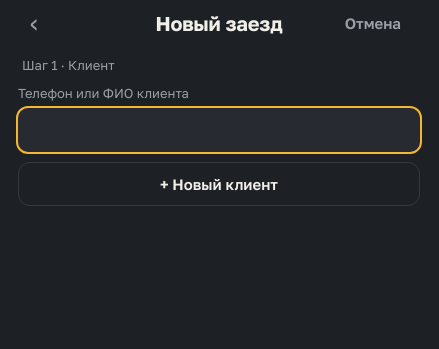
mileage above 9 999 999 is rejected with a field error
The width and height of the screenshot is (439, 349).
In the field labelled "Телефон или ФИО клиента": (219, 130) [18,108,420,152], type "Петров"
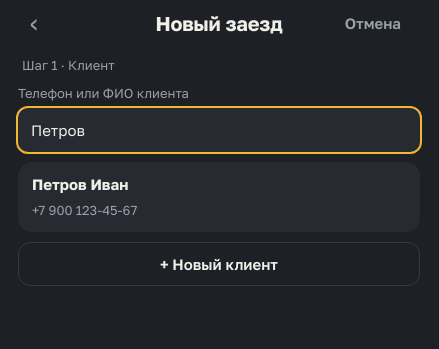
Click the button "Петров Иван +7 900 123-45-67": click(80, 184) [18,162,420,232]
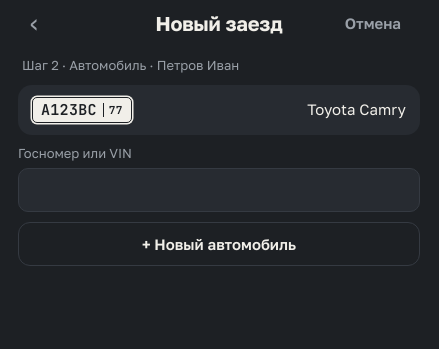
Click the button "А123ВС 77 Toyota Camry": click(82, 110) [18,84,420,134]
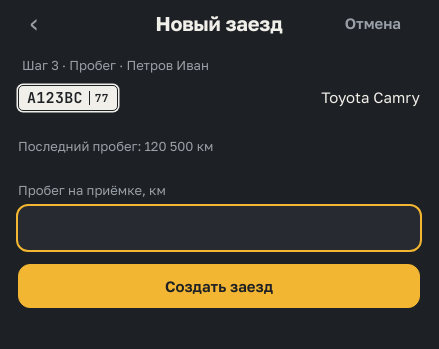
In the field labelled "Пробег на приёмке, км": (219, 228) [18,206,420,250], type "10000000"
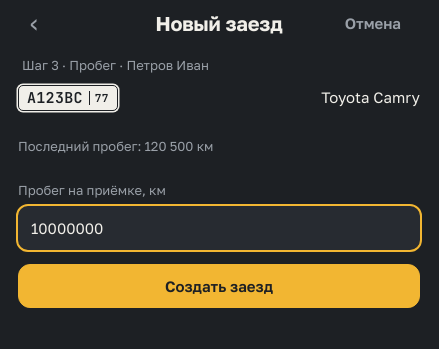
Click the button "Создать заезд": click(219, 286) [18,264,420,308]
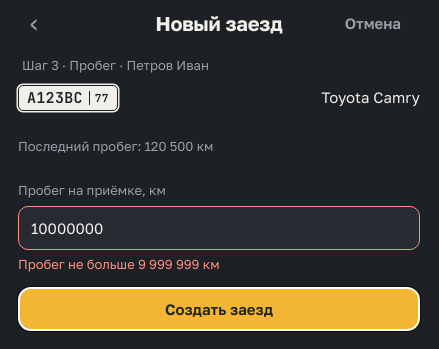
Check: the text "Пробег не больше 9 999 999 км" is shown, box [18,256,220,272]
